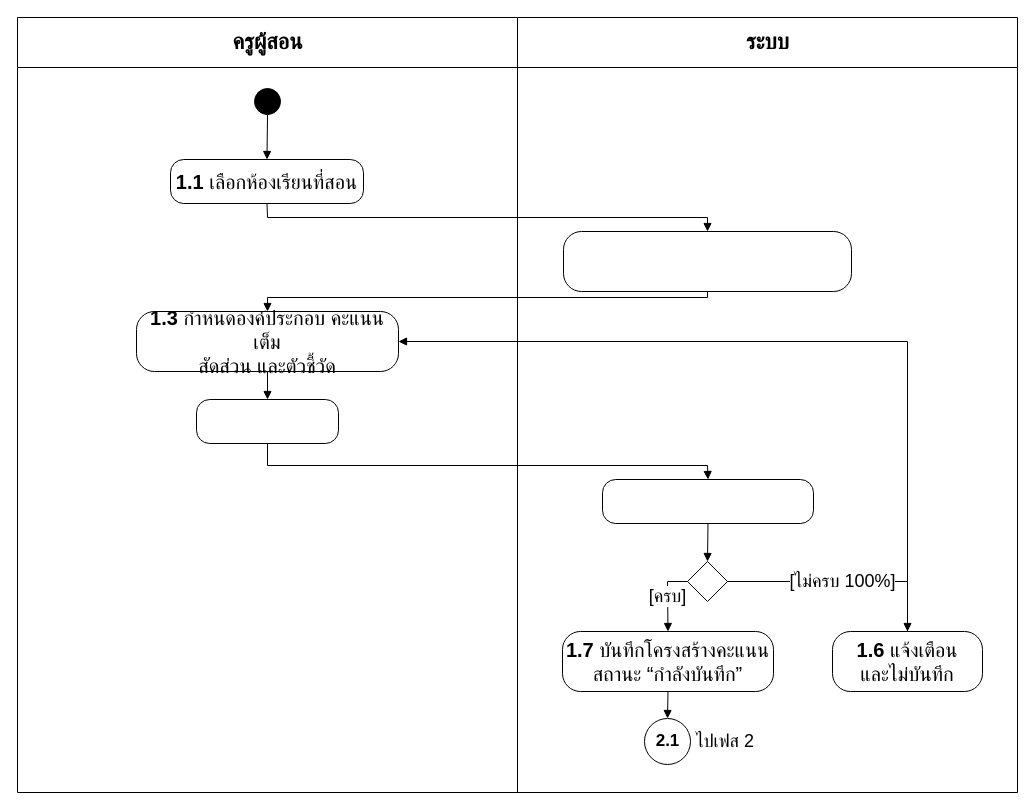
Some shapes in this 1035 by 810 pixel diagram are drawn without their labels. Here are the shapes that lost their labels. From the top down, the centre of each, then its label:
At point 707,261: "1.2 แสดงโครงสร้างคะแนน ถ้ายังไม่ตั้ง ใช้โครงสร้างตั้งต้นของรายวิชา".
At point 267,421: "1.4 กด “บันทึก”".
At point 708,501: "1.5 ตรวจสัดส่วนรวม 100%".
